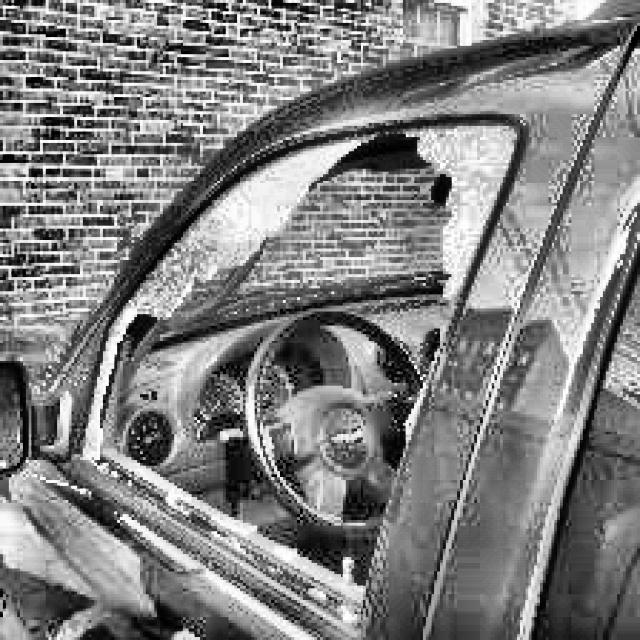glass_shatter: (256, 151, 461, 325), (122, 296, 247, 489)
